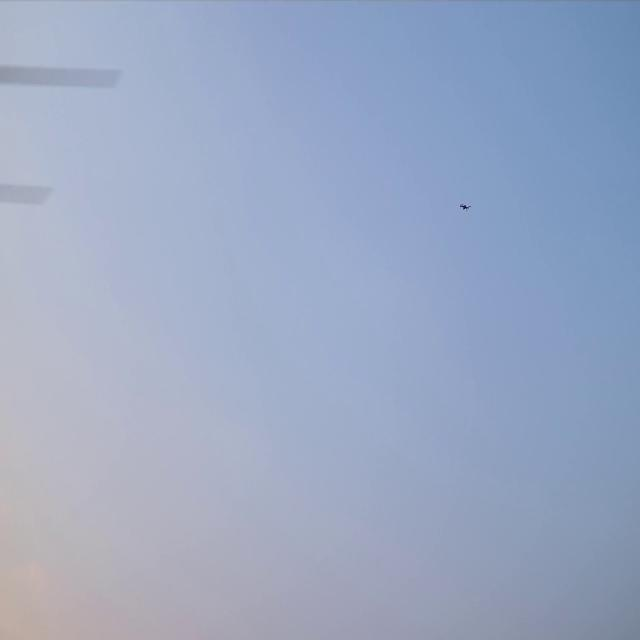UAV: (458, 202, 472, 212)
